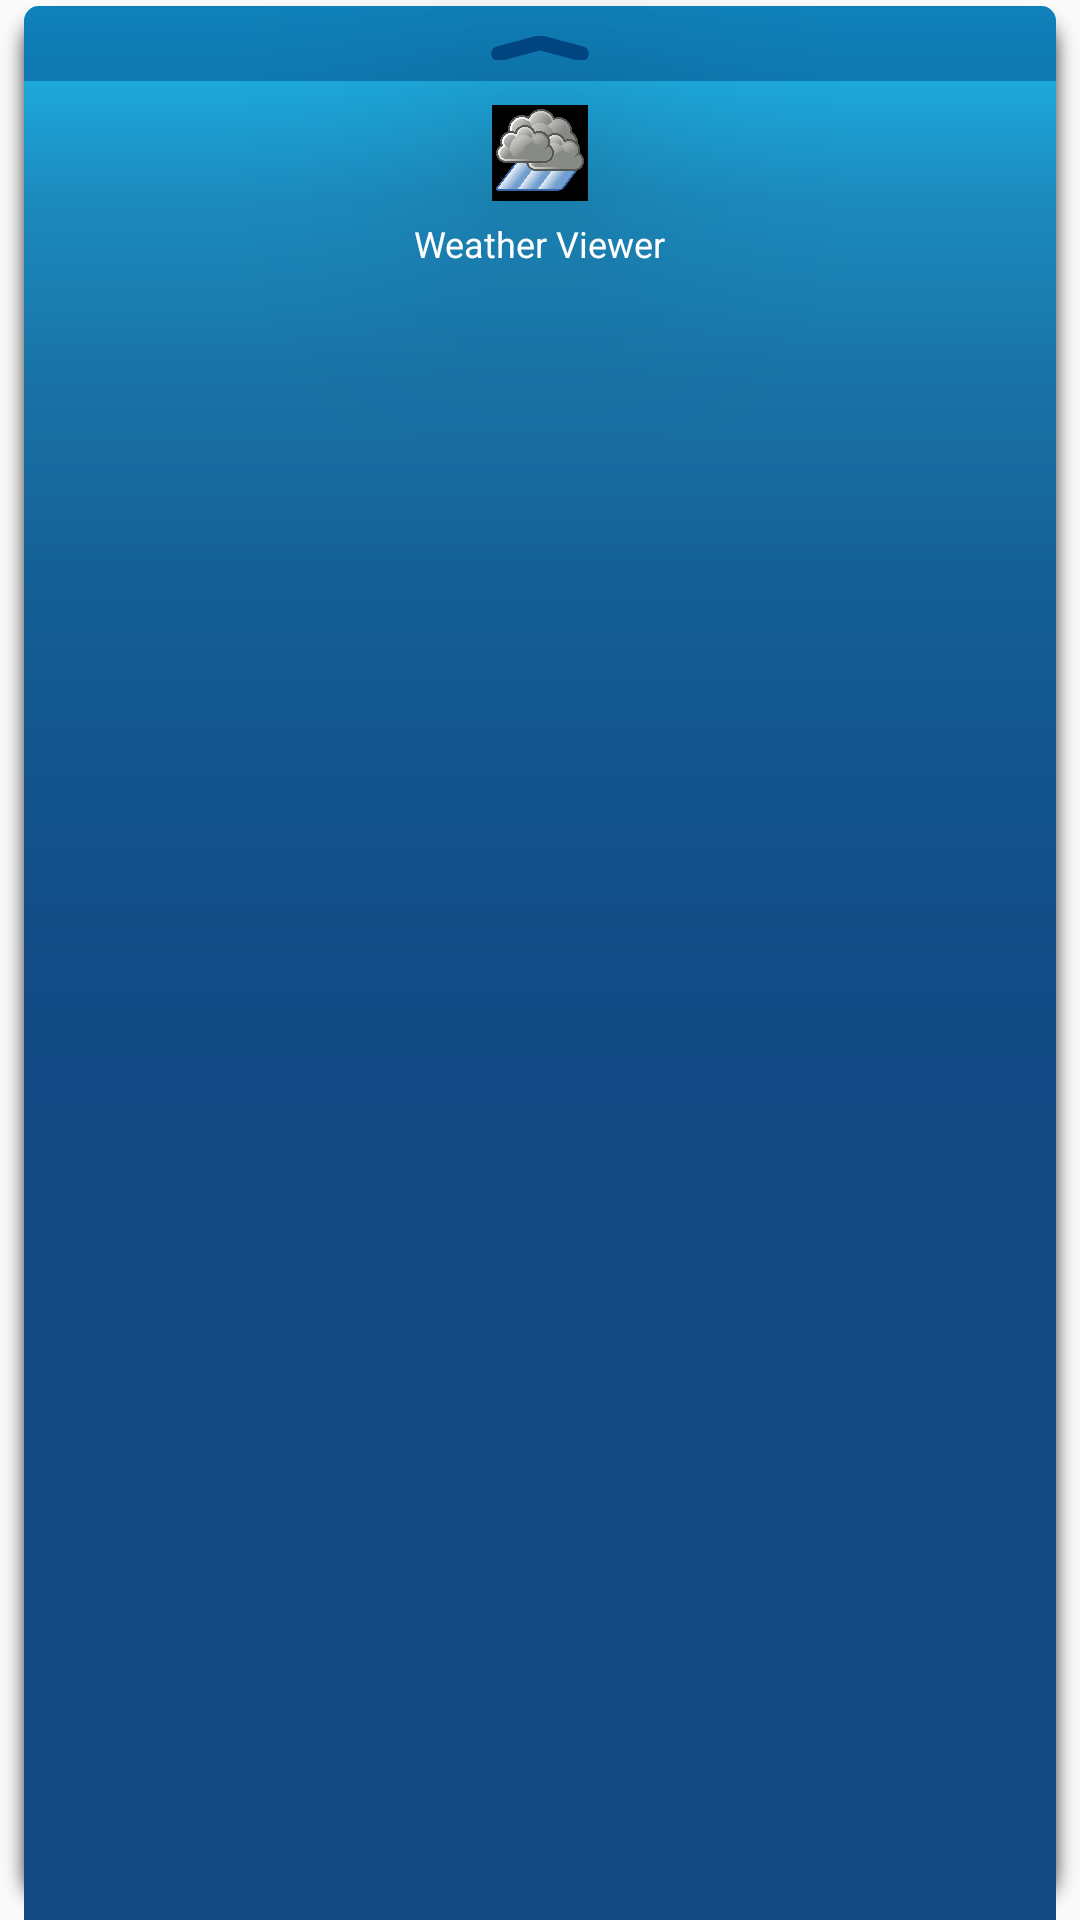

Where to tap for icons on this 1080 x 1920 app screen, as (x,y):
bottomsheet arrow up left: (515,48)
bottomsheet arrow up rigth: (564,48)
